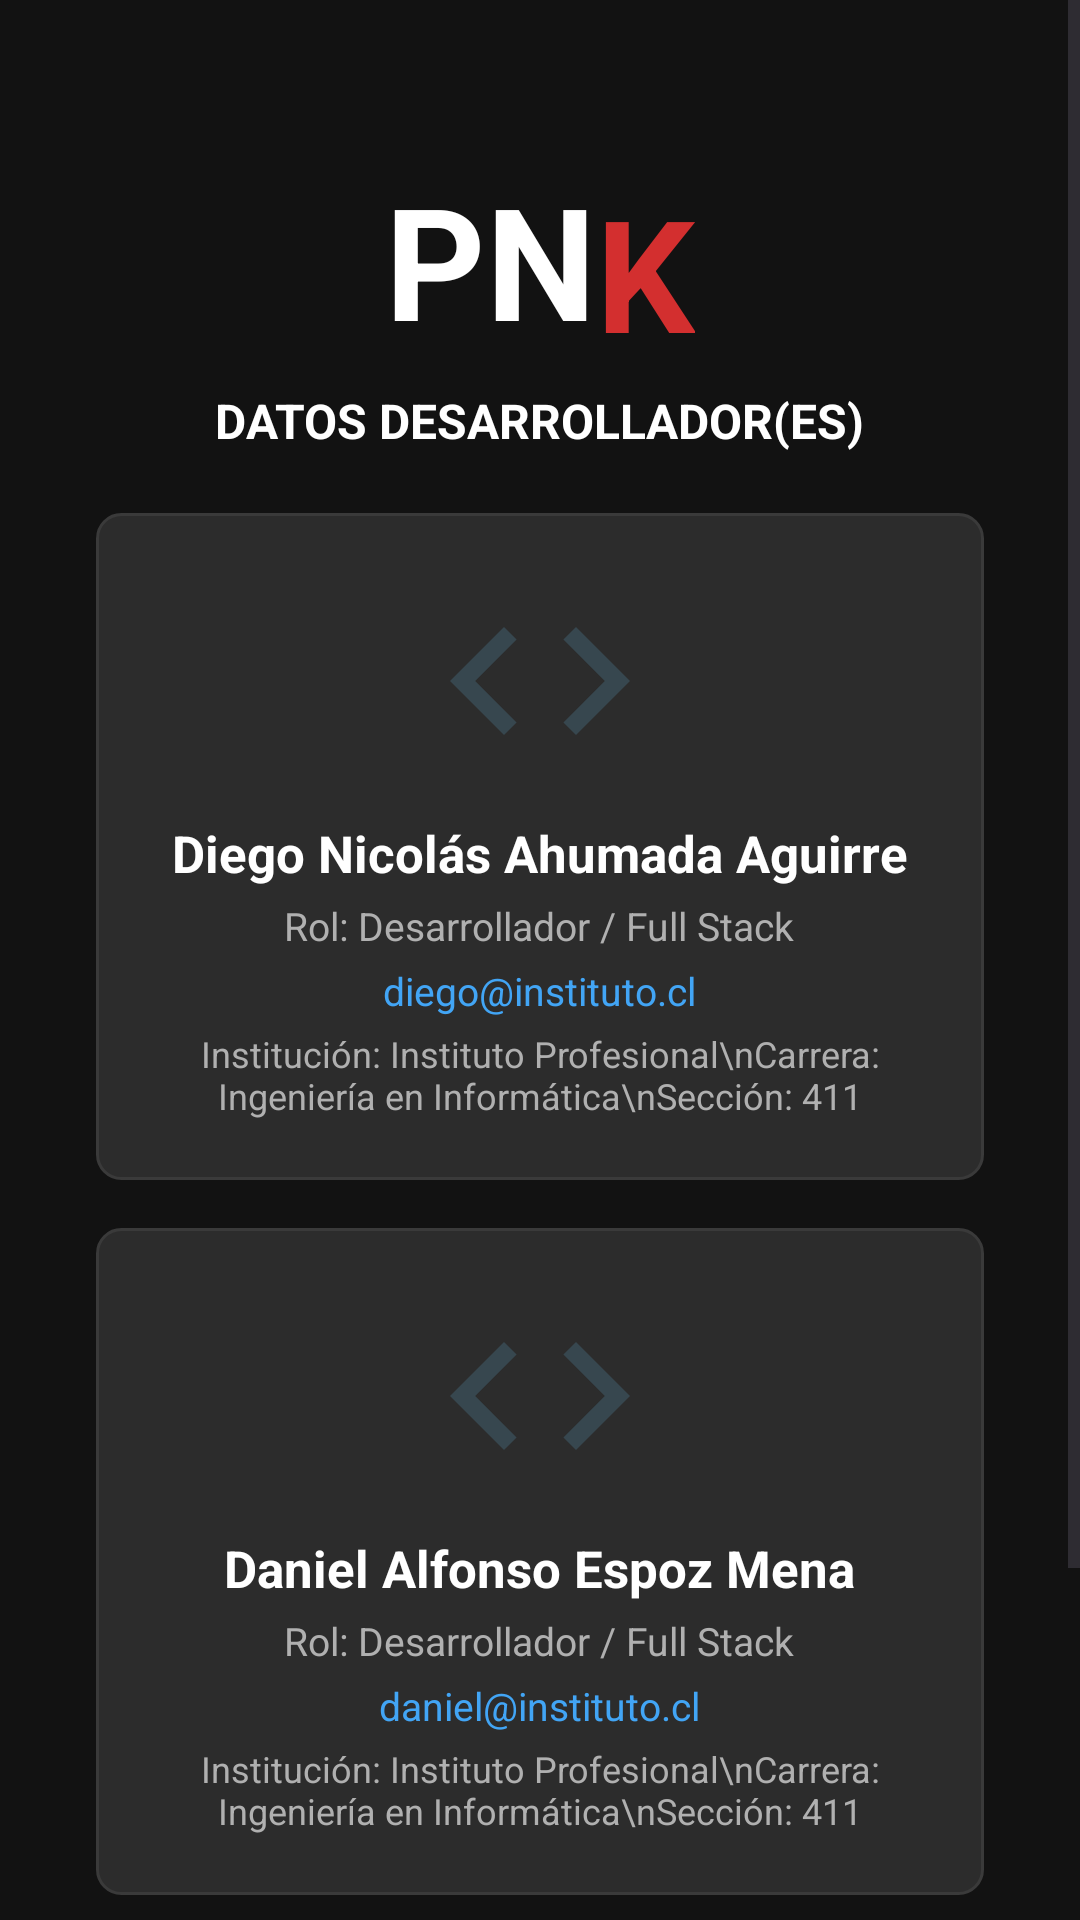

Where to tap for icons on this 1080px x 1920px app screen, as (x,y):
Avatar desarrollador: (540,681), (540,1396)
